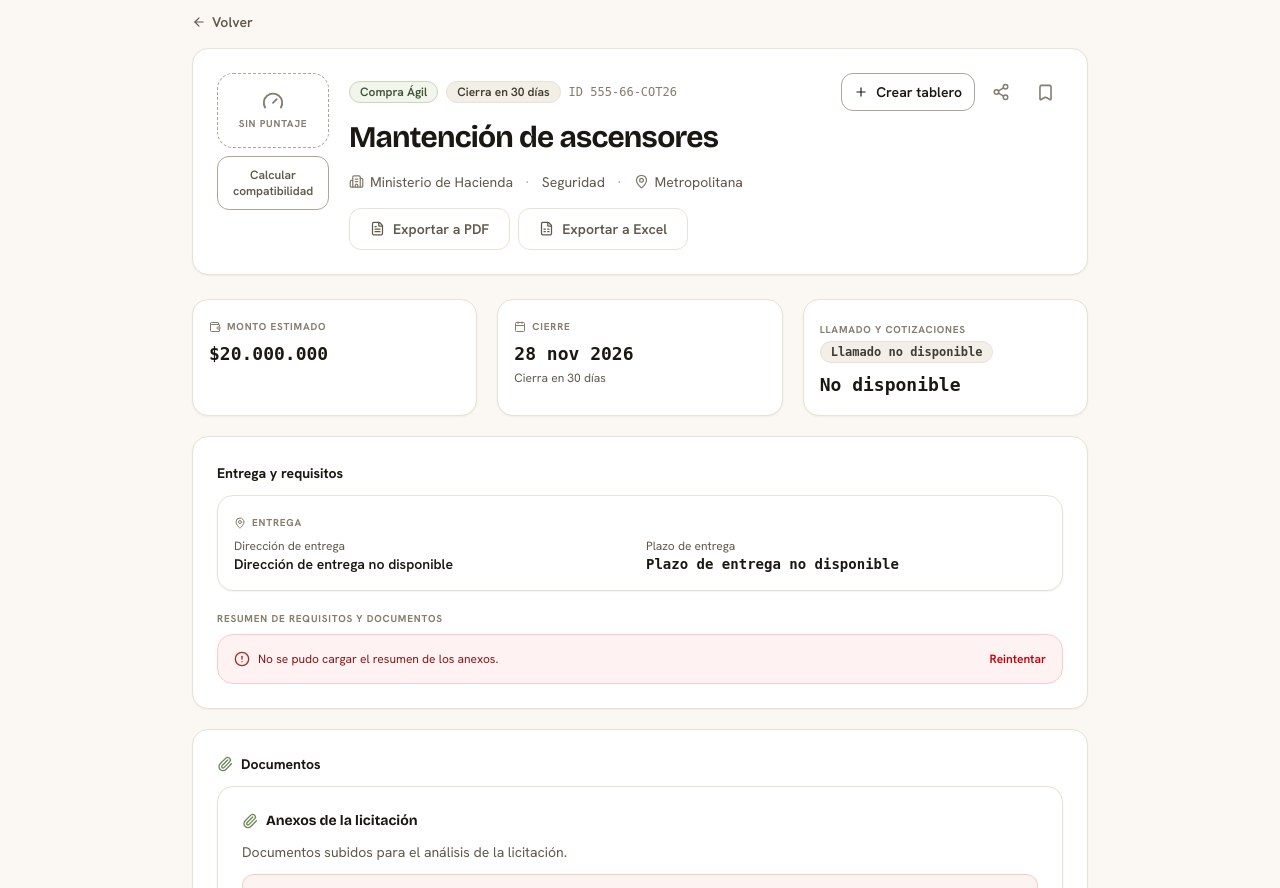
Test case: TenderDetailView: compatibilidad a pedido › calcula la compatibilidad cuando el usuario lo pide
Click the button "Calcular compatibilidad" at (273, 183), box left=217, top=156, right=329, bottom=210
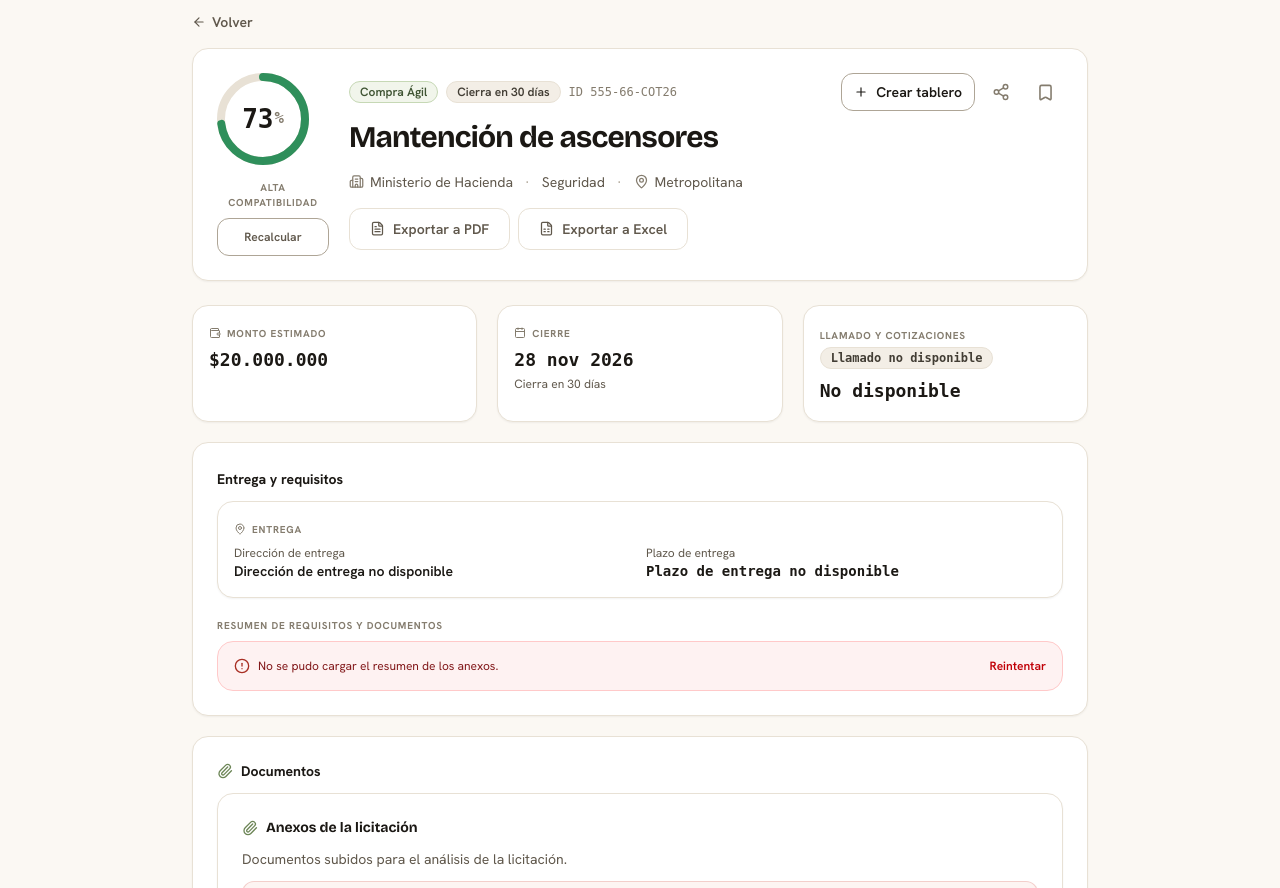
Result: the picture named "Compatibilidad 73%" is shown at left=217, top=73, right=309, bottom=165
Result: the text "Sin puntaje" is gone
